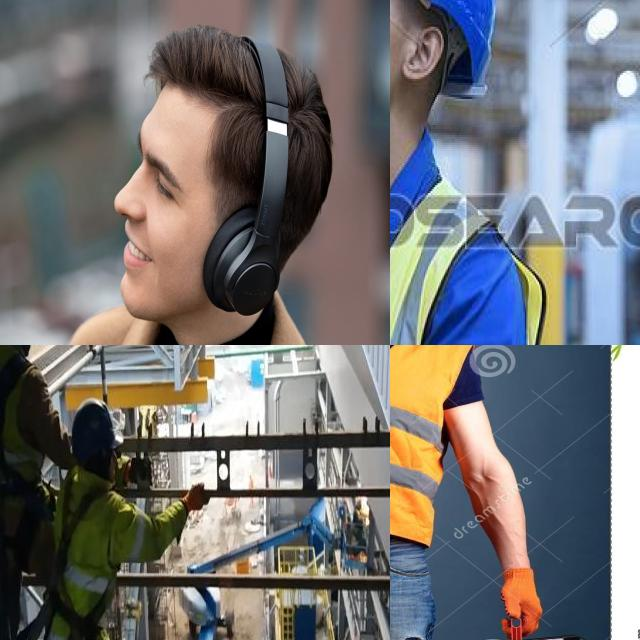Ear-protection: (114, 17, 348, 345)
Harness: (52, 466, 111, 630), (0, 353, 29, 484)
No_Ear-Protection: (402, 20, 446, 83)
No_Glasses: (114, 112, 190, 224)
hand_glove: (493, 553, 549, 640)
head_helmet: (390, 0, 489, 106)
person: (390, 0, 564, 345), (390, 345, 466, 640)
vest: (390, 151, 556, 345), (390, 345, 457, 530)
